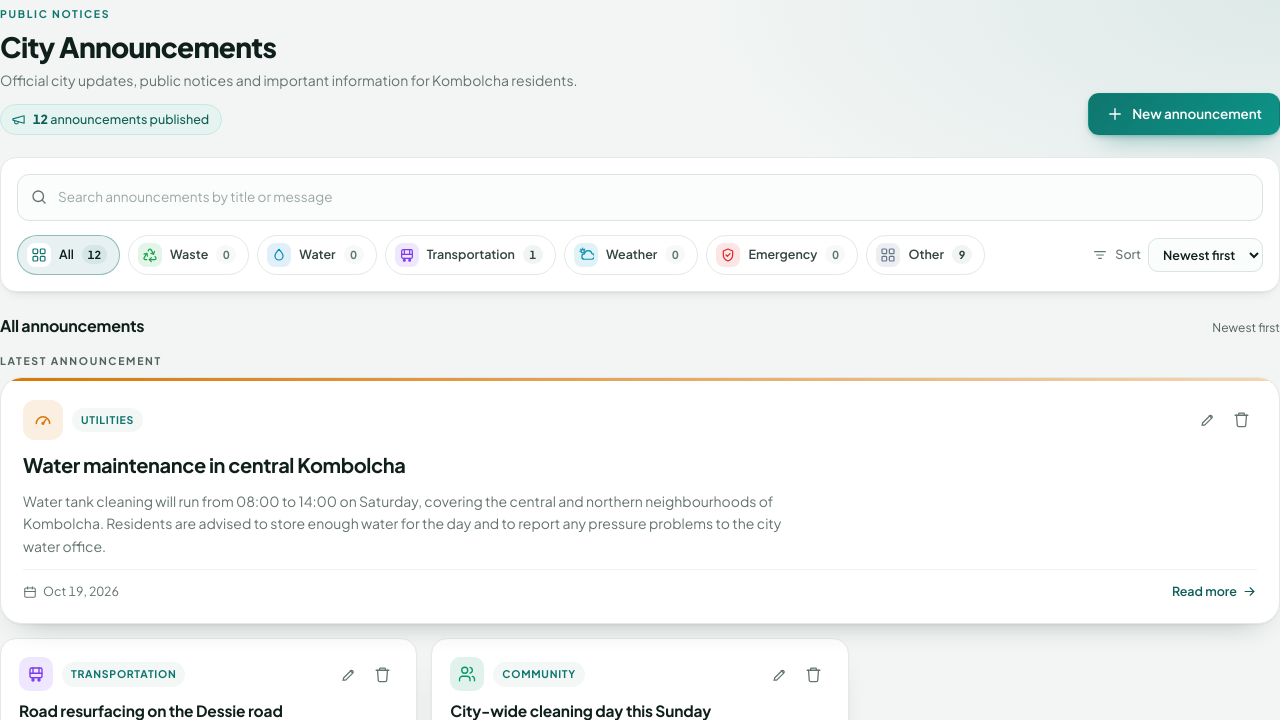
Scenario: Announcements administrator permissions › deletes a notice through the existing API when confirmed
The image size is (1280, 720).
Check: the heading "City-wide cleaning day this Sunday" is shown, box [450,702,711,719]
Step 1. Click the button named "delete city-wide cleaning day this sunday" → point(814, 674), box [798,658,830,690]
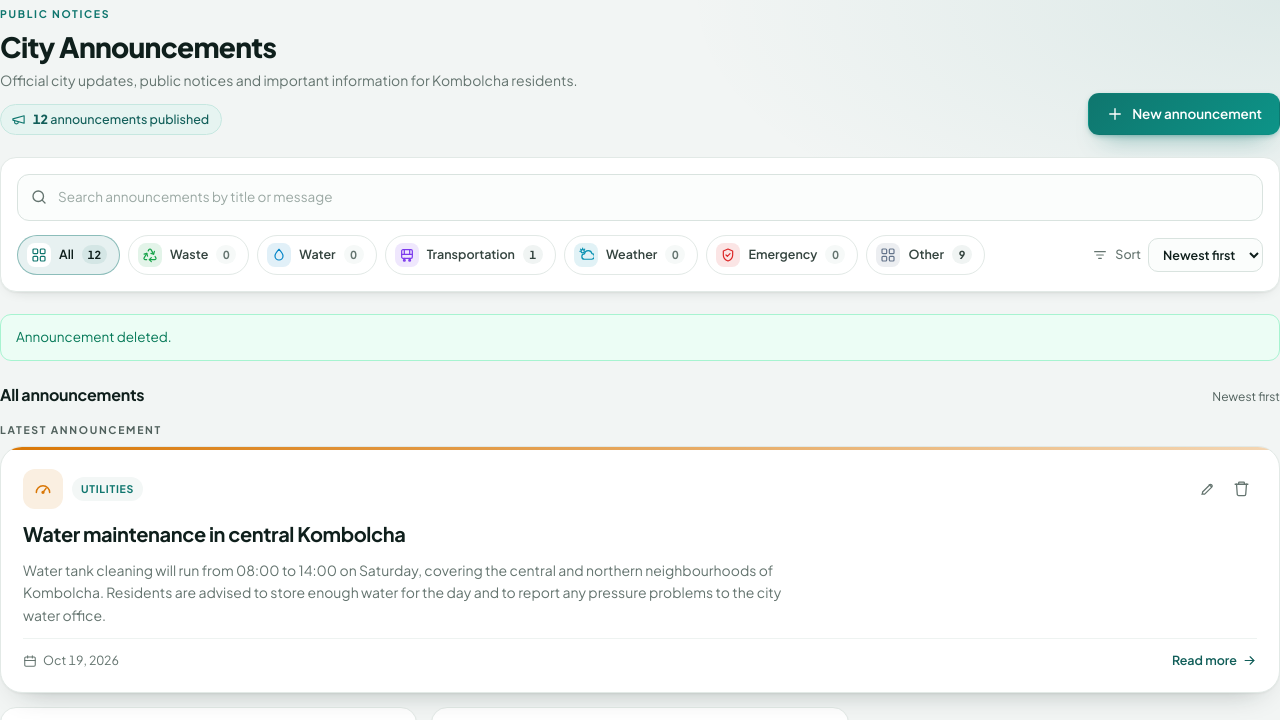
Check: the text "Announcement deleted." is shown, box [0,314,1279,361]
